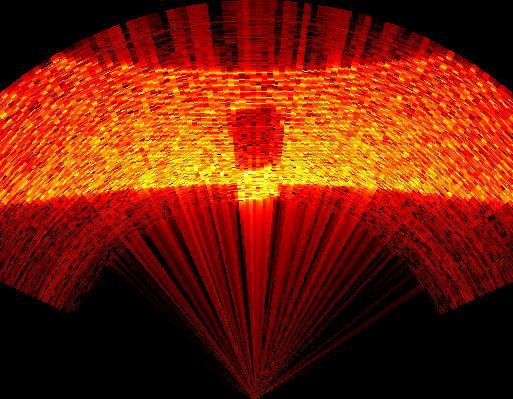box_crate: (227, 105, 288, 202)
